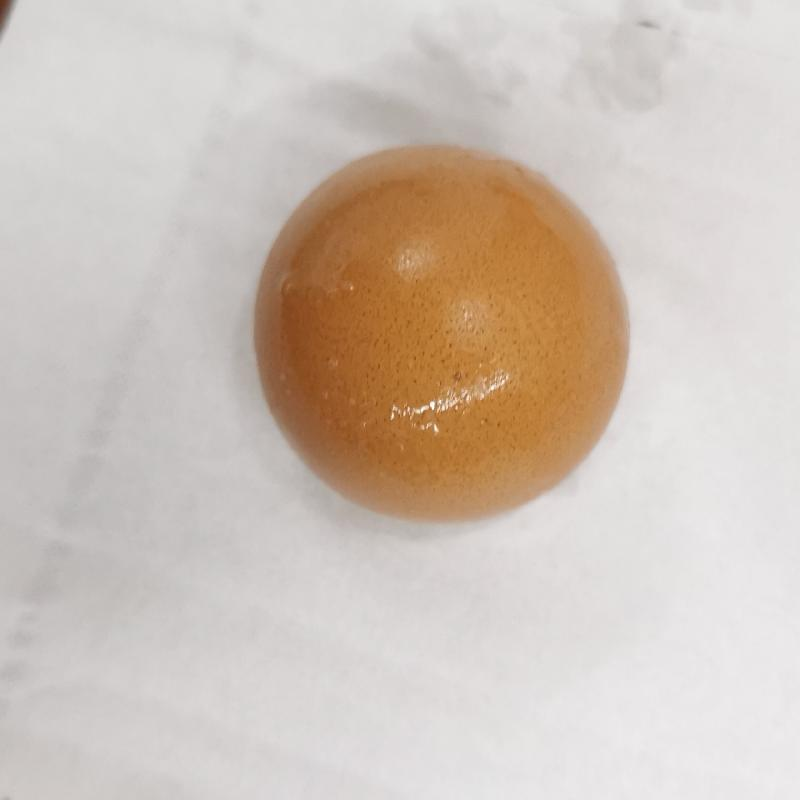eggshell: (249, 145, 632, 524)
